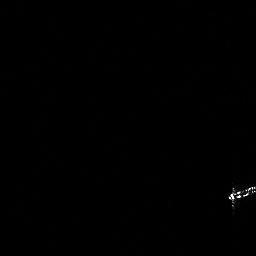ship: (225, 184, 256, 206)
